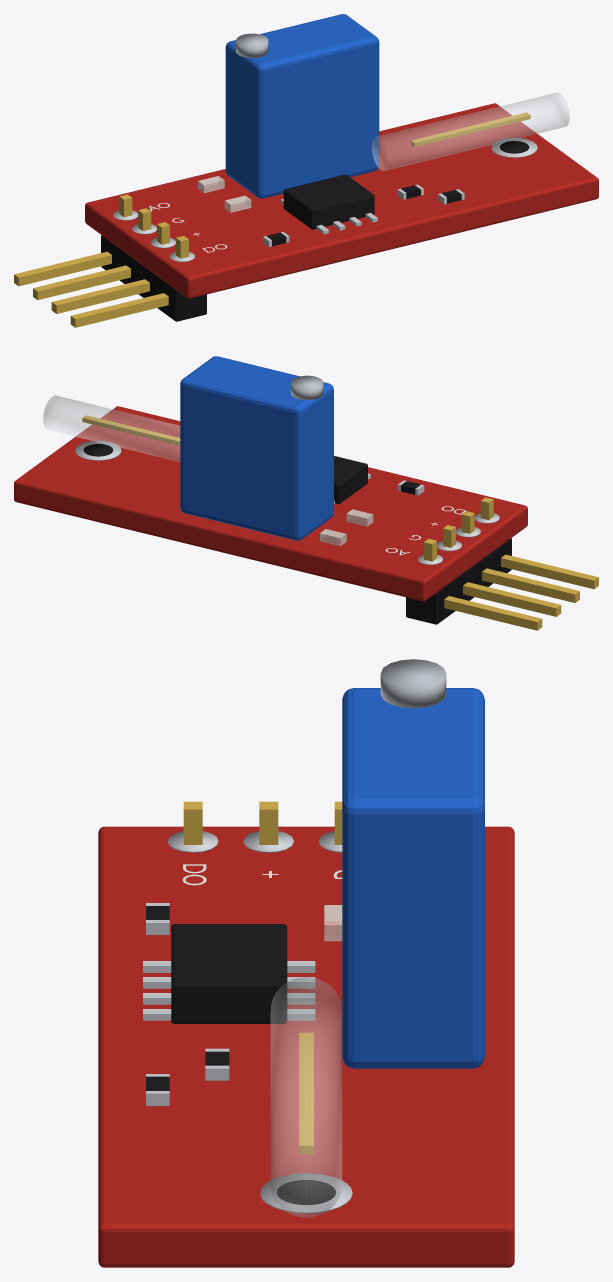
The model's file is reed-switch.glb.
The picture shows the model from 3 angles, top to bottom: view 1: azimuth 30°, elevation 25°; view 2: azimuth 150°, elevation 25°; view 3: azimuth 270°, elevation 25°; orthographic projection. The views are drawn at different scales.
Visible parts, largest first — view 1: pcb.012, trimpot.001, part.051, lm393.001, header.012, pin_h.039, pin_h.040, pin_h.037, pin_h.038, part.052, trim_screw.001, hole_ring.023; view 2: pcb.012, trimpot.001, part.051, header.012, pin_h.038, pin_h.037, pin_h.040, pin_h.039, lm393.001, part.052, trim_screw.001, hole_ring.023; view 3: pcb.012, trimpot.001, part.051, lm393.001, trim_screw.001, hole_ring.023, part.052, hole.023, pin_v.039, pin_v.040.
Boxes of the visible parts, x1,y1,x2,y2 form: pcb.012: (85,103,598,298); trimpot.001: (225,14,379,198); part.051: (372,92,569,170); lm393.001: (283,174,374,229); header.012: (101,235,206,321); pin_h.039: (51,279,149,313); pin_h.040: (70,293,168,327); pin_h.037: (14,251,111,286); pin_h.038: (33,265,130,300); part.052: (411,112,530,146); trim_screw.001: (236,33,268,57); hole_ring.023: (491,137,537,157); pcb.012: (14,406,527,601); trimpot.001: (180,356,333,540); part.051: (43,395,179,461); header.012: (406,538,511,624); pin_h.038: (463,582,561,616); pin_h.037: (444,596,542,630); pin_h.040: (501,554,598,589); pin_h.039: (482,568,579,602); lm393.001: (334,456,367,504); part.052: (82,415,180,445); trim_screw.001: (291,375,323,400); hole_ring.023: (75,440,121,460); pcb.012: (98,826,514,1267); trimpot.001: (342,688,484,1068); part.051: (271,977,341,1217); lm393.001: (171,924,287,1023); trim_screw.001: (380,659,446,708); hole_ring.023: (260,1173,352,1213); part.052: (299,1032,313,1153); hole.023: (276,1179,336,1205); pin_v.039: (259,801,278,844); pin_v.040: (183,801,202,844).
Bounding box in the file's own units: 0.0401 × 0.0149 × 0.014.
